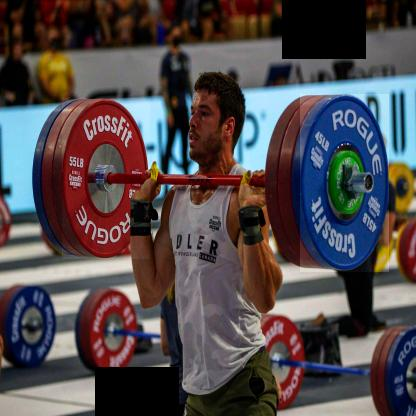barbell: (301, 95, 390, 273), (63, 99, 151, 260)
